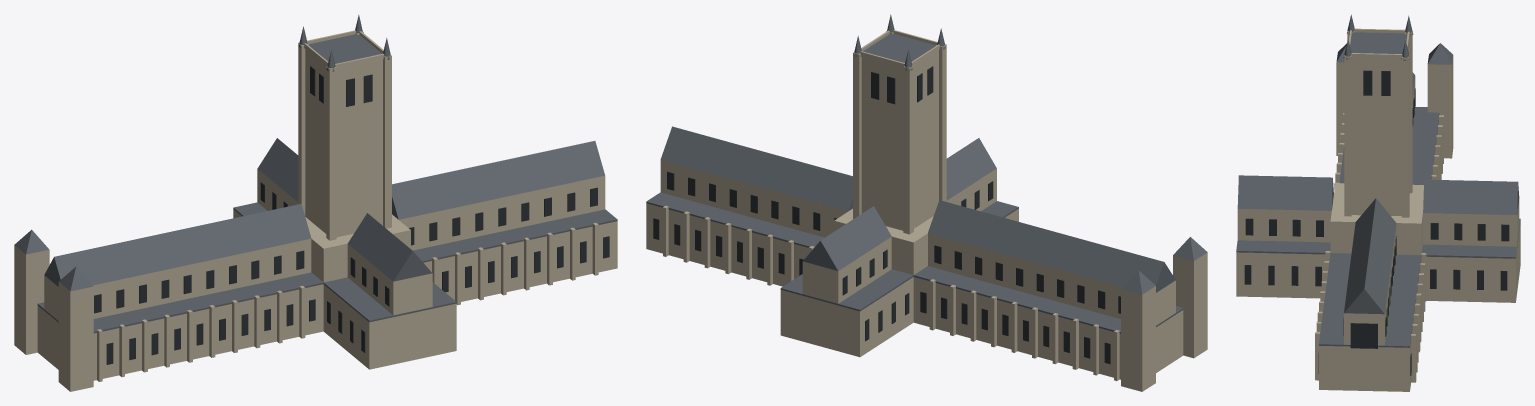
File: st-pauls-site-b40.glb
3 views of the same model, side by side, from view 1: azimuth 30°, elevation 25°; view 2: azimuth 150°, elevation 25°; view 3: azimuth 270°, elevation 25° (orthographic). The views are drawn at different scales.
Size of the model in its own units: 192 by 91.99 by 93.49.
